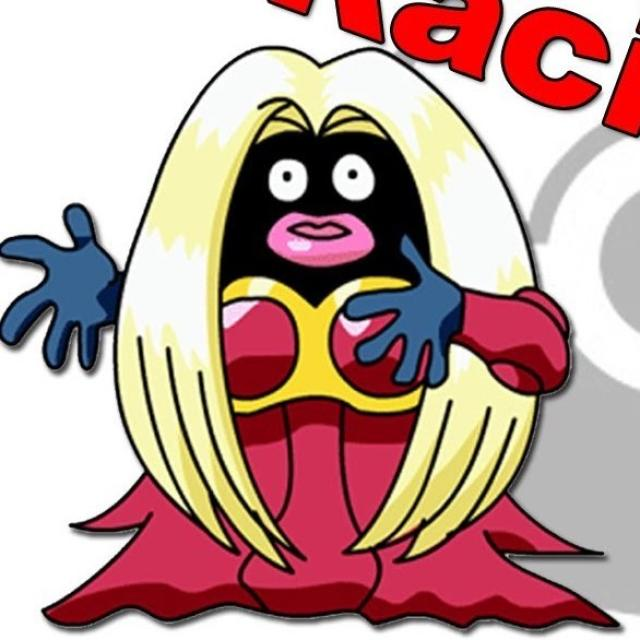Jynx: (4, 33, 635, 640)
